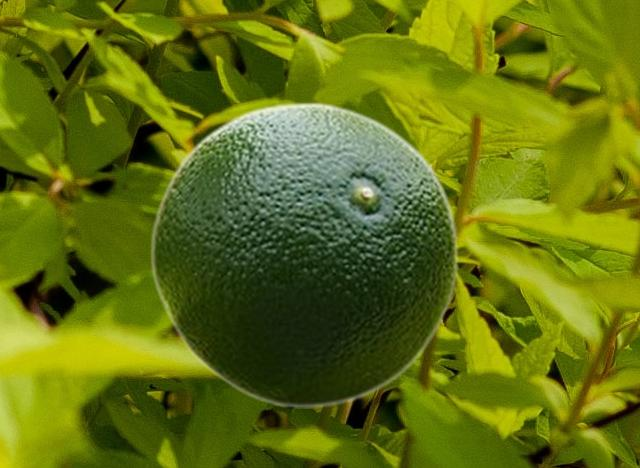calamansi: (149, 101, 459, 407)
